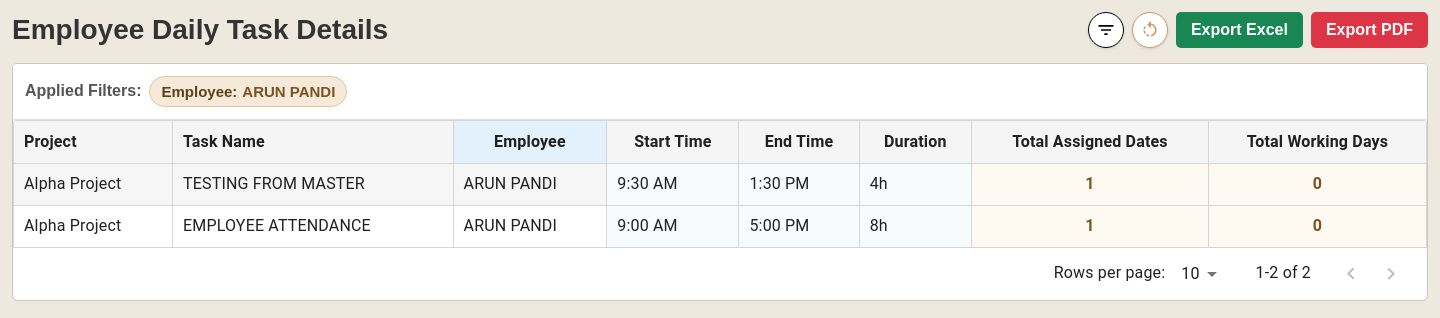
Test: MyList Page (Employee Daily Task Details) › filters to individual employee details (non-cumulative) when admin selects an employee, and resets
Earlier steps of the test are not shown.
Expected: the text "EMPLOYEE ATTENDANCE" is shown, [173,205,453,247]
Expected: the cell "TESTING FROM MASTER" is shown, [173,164,453,205]
Click the button named "Reset Filters" at x=1150, y=30, box [1132,12,1168,48]
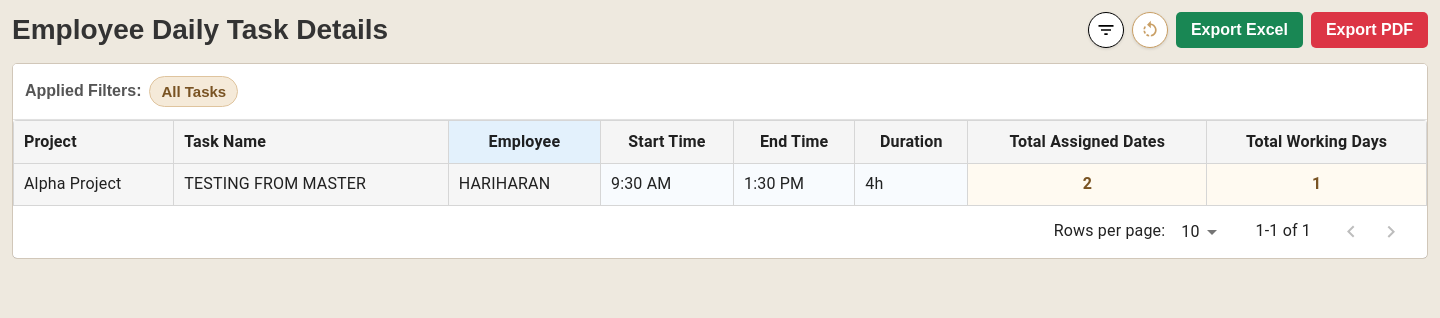
Now the cell "HARIHARAN" is shown, box [448,164,600,205]
Now the element with id "activeFilterChips" reads "All Tasks", box [162,83,226,100]
